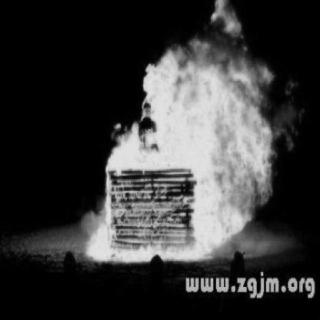Fire: (80, 0, 297, 262)
